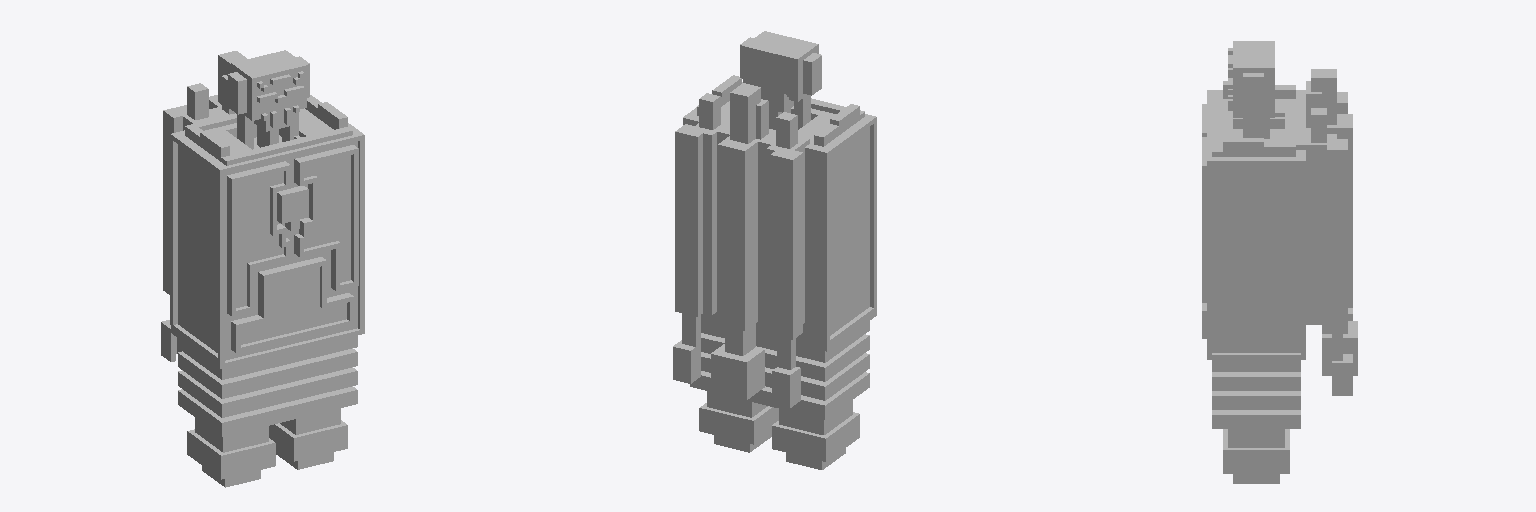
Rendered from flight droid body obj.obj.
3 views of the same model, side by side, from view 1: azimuth 30°, elevation 25°; view 2: azimuth 150°, elevation 25°; view 3: azimuth 270°, elevation 25° (orthographic).
Parts seen in each view (by area): view 1: object 1; view 2: object 1; view 3: object 1.
Part boxes in pixels (x1,y1,x2,y2): object 1: (161, 50, 364, 487); object 1: (673, 31, 876, 469); object 1: (1202, 41, 1357, 483).
Size of the model in its own units: 3.2 by 8.5 by 3.